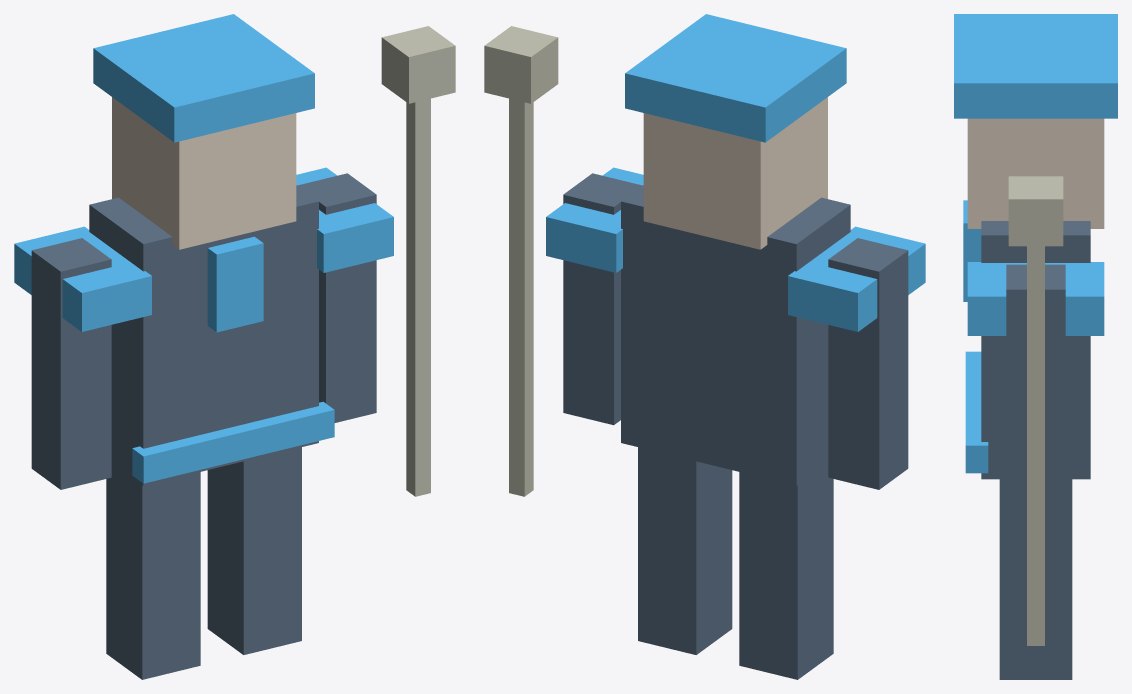
File: 06_tovin_stormhush_herald_of_breach.glb
3 views of the same model, side by side, from view 1: azimuth 30°, elevation 25°; view 2: azimuth 150°, elevation 25°; view 3: azimuth 270°, elevation 25° (orthographic).
Parts seen in each view (by area): view 1: Tovin Stormhush, Herald of Breach; view 2: Tovin Stormhush, Herald of Breach; view 3: Tovin Stormhush, Herald of Breach.
Part boxes in pixels (left/top/right/bottom): Tovin Stormhush, Herald of Breach: left=14, top=14, right=455, bottom=679; Tovin Stormhush, Herald of Breach: left=484, top=14, right=925, bottom=679; Tovin Stormhush, Herald of Breach: left=954, top=14, right=1117, bottom=679.
Bounding box in the file's own units: 1.05 × 1.49 × 0.3741.
